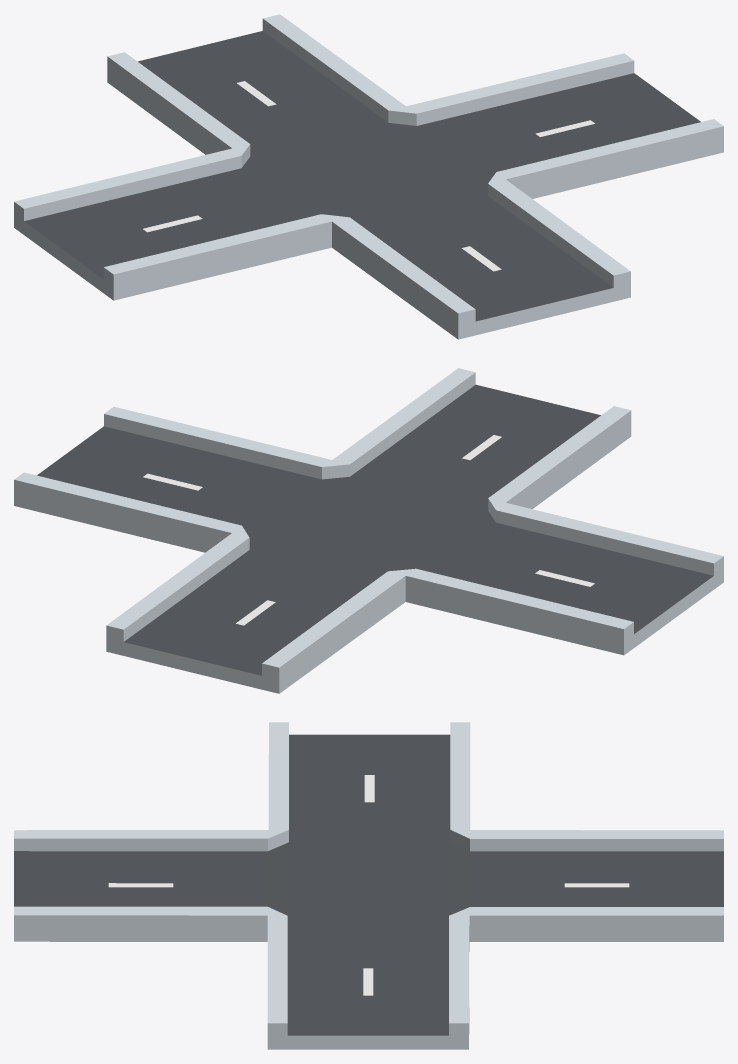
The model's file is 4 Way Road.fbx.
3 views of the same model, one above another, from view 1: azimuth 30°, elevation 25°; view 2: azimuth 150°, elevation 25°; view 3: azimuth 270°, elevation 25° (orthographic).
Parts seen in each view (by area): view 1: polySurface921; view 2: polySurface921; view 3: polySurface921.
Boxes of the visible parts, <box> form: polySurface921: <box>14,14,723,339</box>; polySurface921: <box>14,368,723,693</box>; polySurface921: <box>14,722,723,1049</box>.
Bounding box in the file's own units: 65.1 × 2.67 × 64.94.
1 material, 1 textured.
